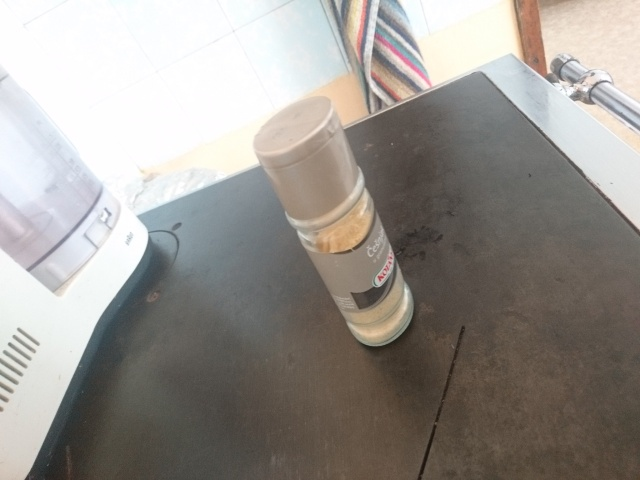Kotanyi Garlic Granules 70g: (250, 92, 418, 351)
